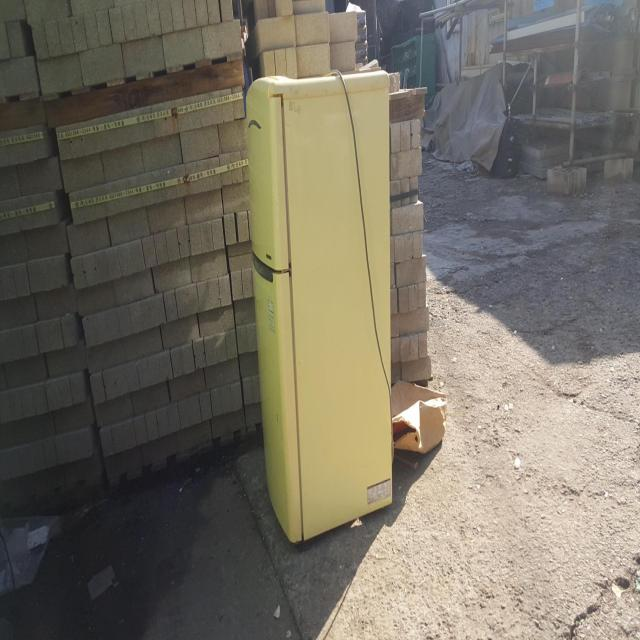refrigerator: (245, 66, 395, 543)
